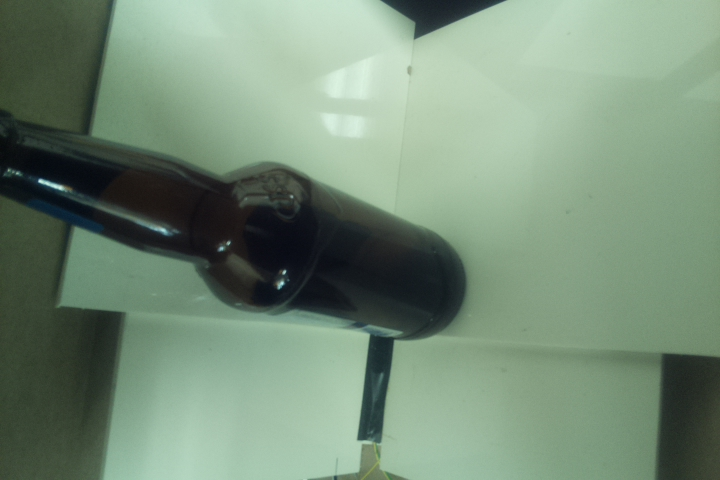makju: (1, 105, 467, 342)
